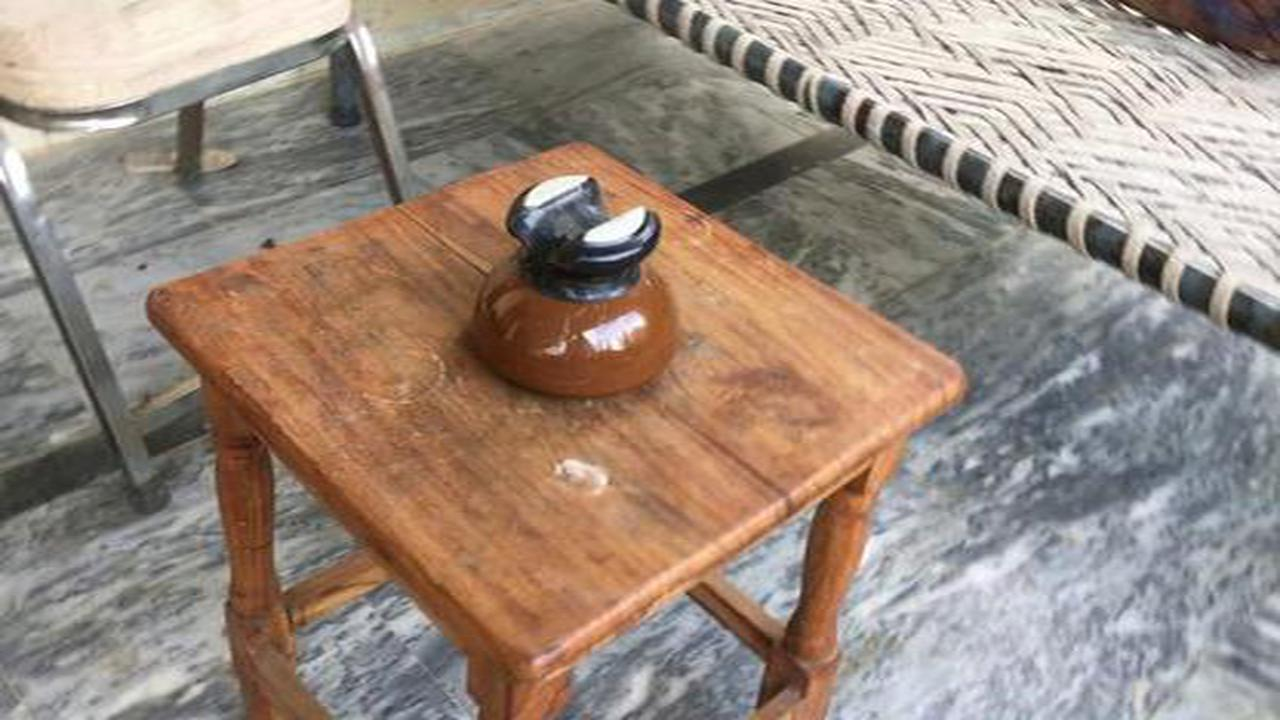insulator_pin: (450, 165, 699, 412)
